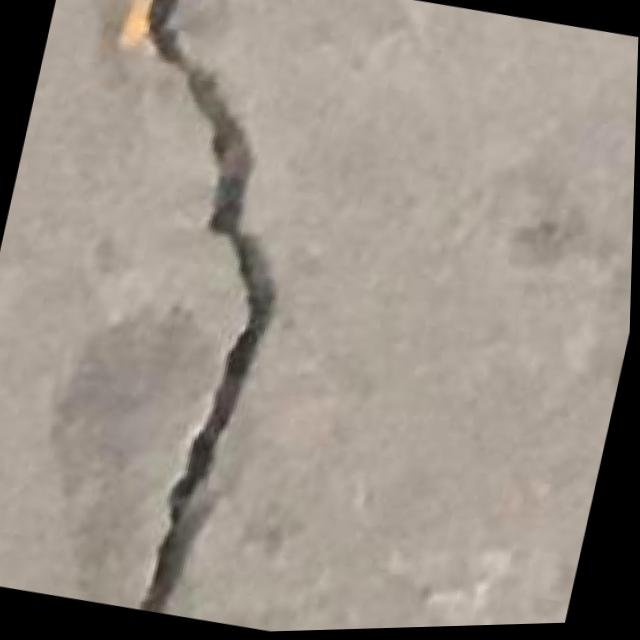Crack: (7, 0, 352, 628)
